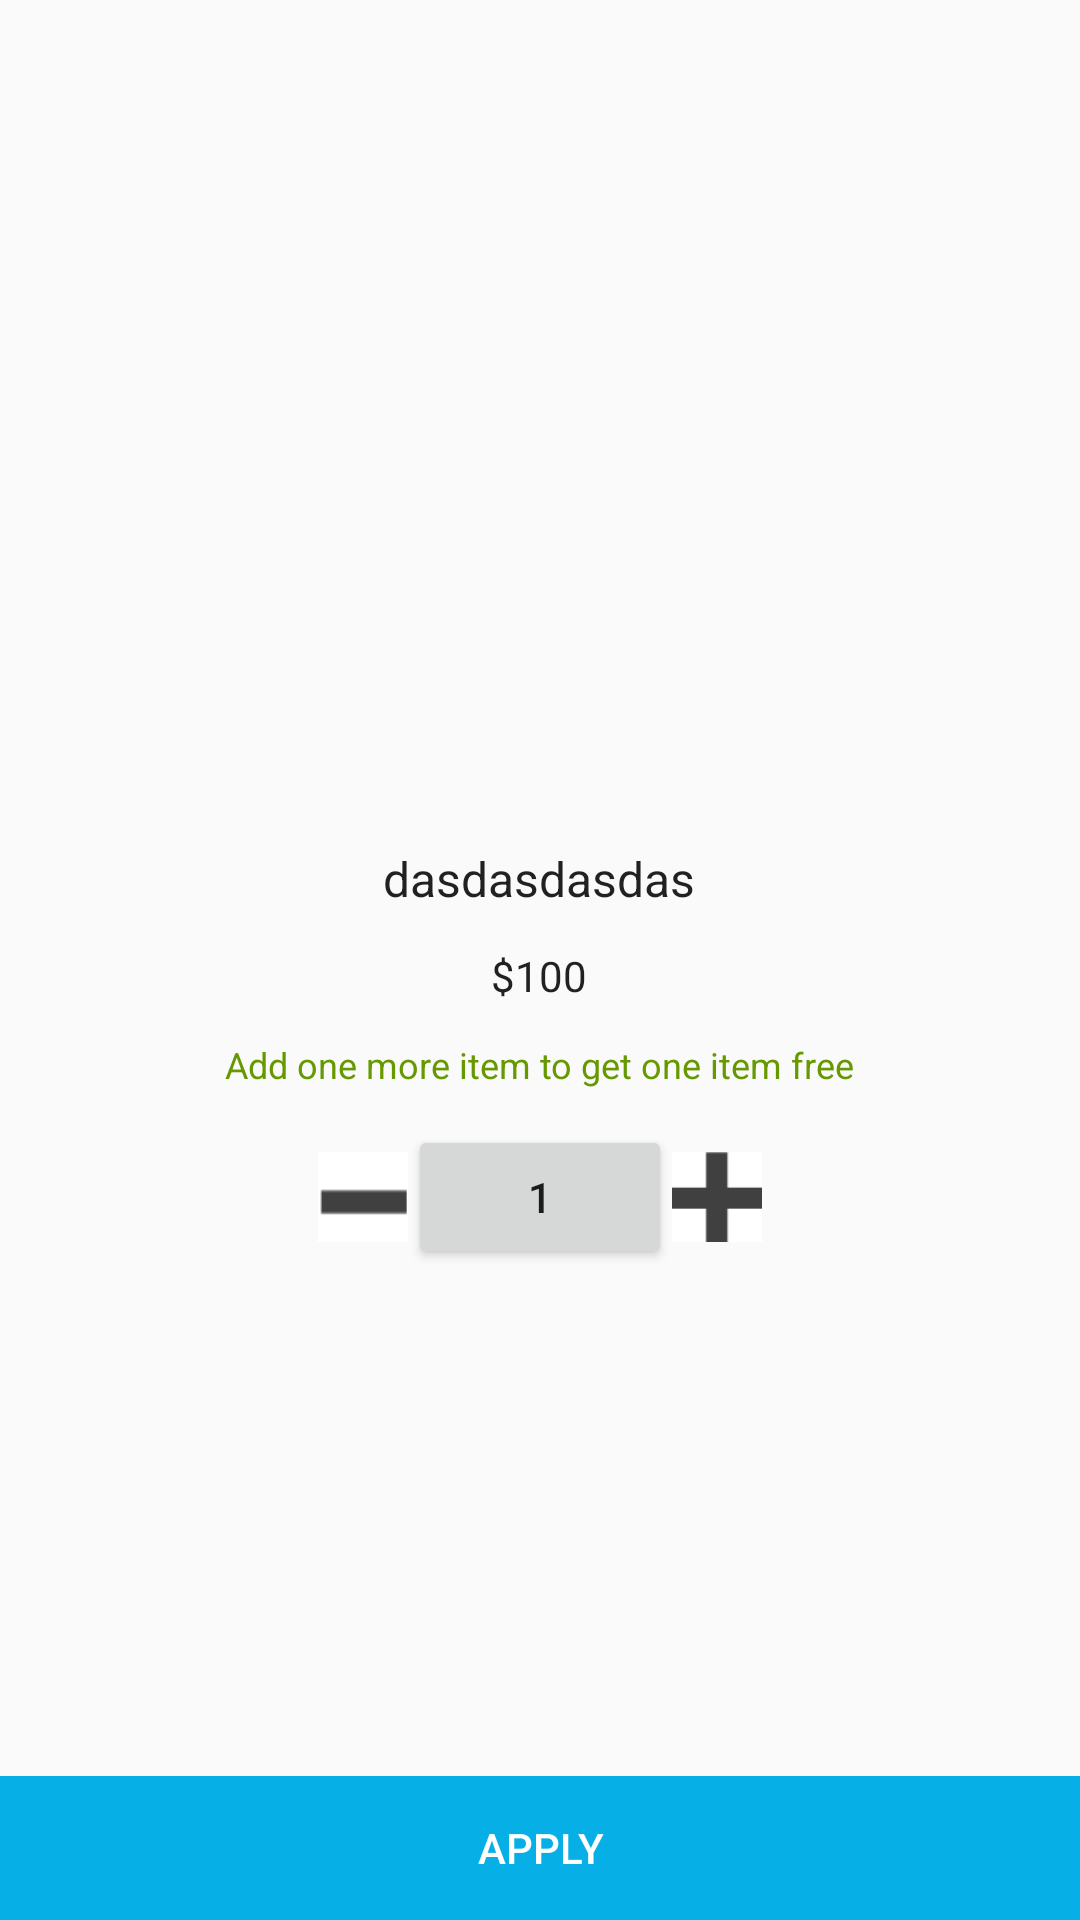

Locate icon controls on the screen. Image size 1080 × 1920, boxes as (x1, y1, x2, y2).
minus: (320, 1189, 407, 1215)
plus: (672, 1152, 762, 1242)
